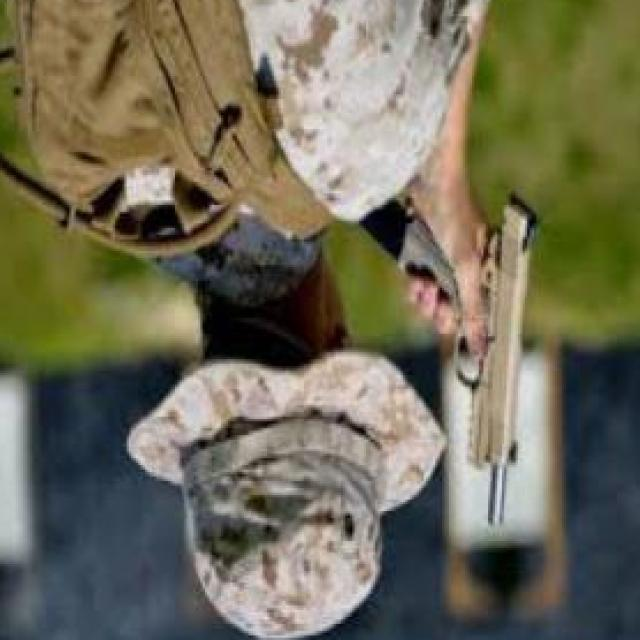pistol: (378, 178, 538, 525)
